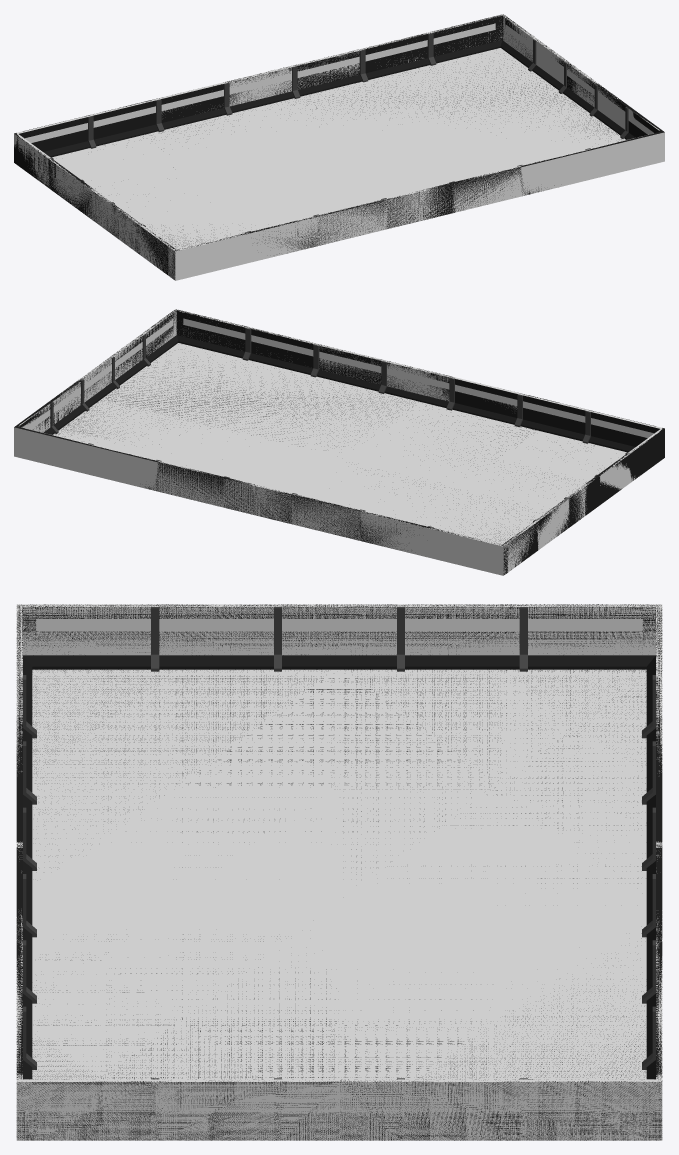
Rendered from ClosedRoom.fbx.
3 renders of one model, top to bottom at view 1: azimuth 30°, elevation 25°; view 2: azimuth 150°, elevation 25°; view 3: azimuth 270°, elevation 25°, orthographic. The views are drawn at different scales.
Visible parts, largest first — view 1: ClosedRoom.001, ClosedRoom; view 2: ClosedRoom.001, ClosedRoom; view 3: ClosedRoom.001, ClosedRoom.
Boxes of the visible parts, x1,y1,x2,y2 form: ClosedRoom.001: [14, 14, 664, 280]; ClosedRoom: [14, 14, 664, 279]; ClosedRoom.001: [14, 309, 662, 575]; ClosedRoom: [14, 309, 664, 574]; ClosedRoom.001: [16, 604, 662, 1140]; ClosedRoom: [16, 604, 662, 1140].
Size of the model in its own units: 3500 by 200 by 2000.
